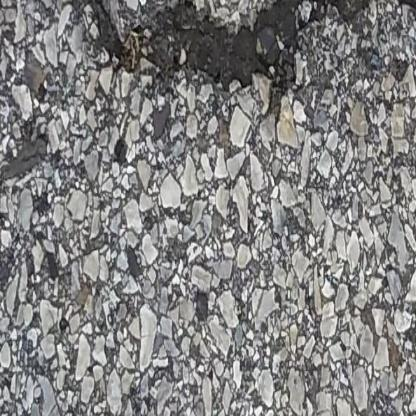Cracks: (55, 0, 416, 95)
